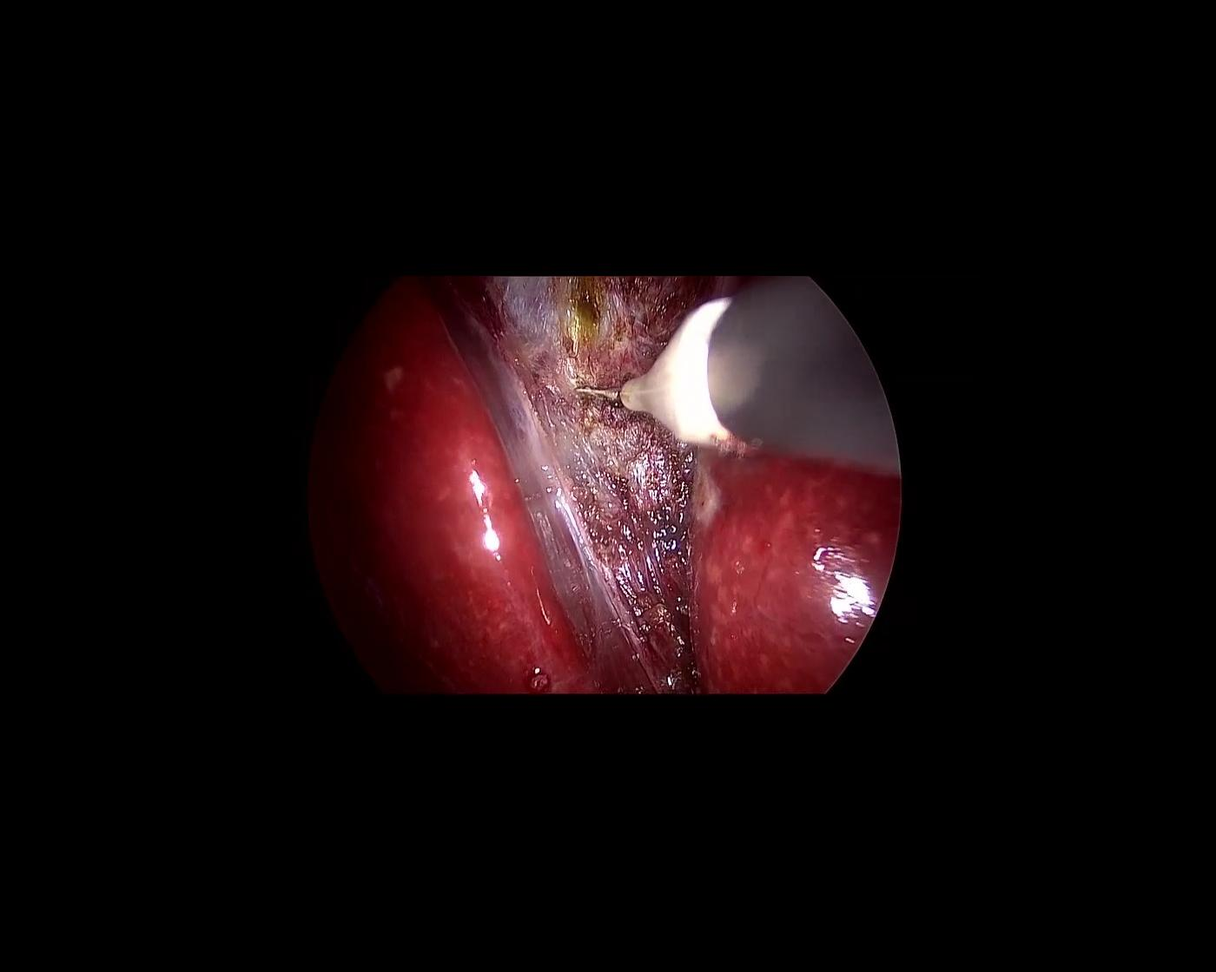Cautery: (567, 279, 898, 469)
Gallbladder: (486, 280, 718, 397)
Liver: (224, 257, 655, 799), (665, 455, 904, 715)
